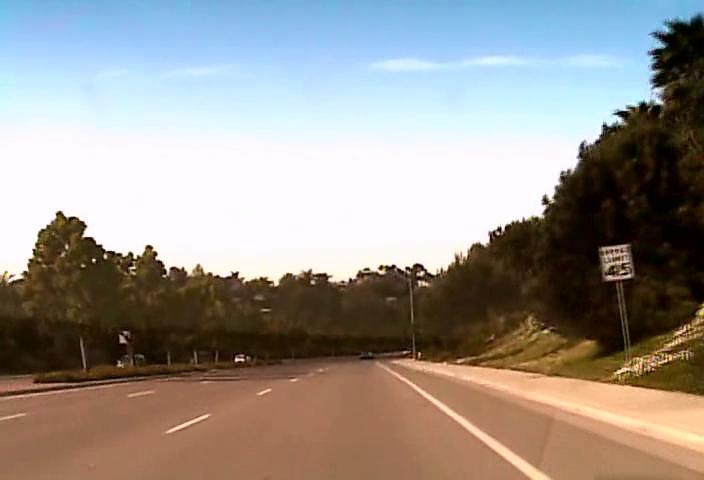speedLimit45: (599, 243, 634, 281)
